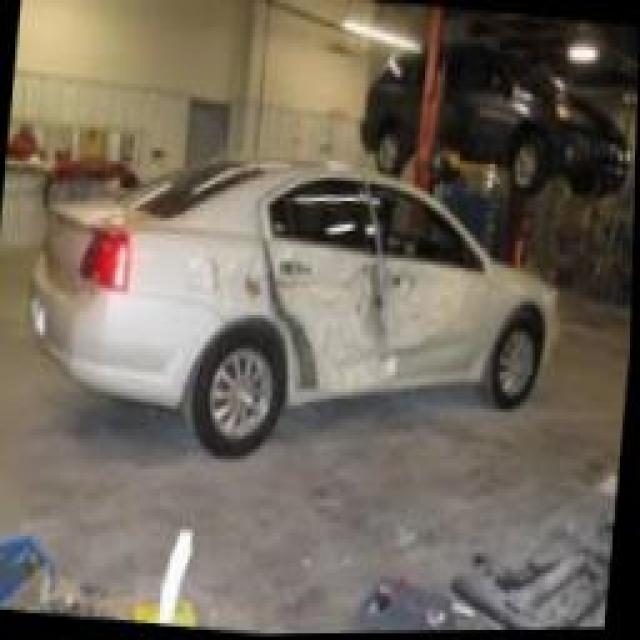Door: (258, 232, 387, 387)
